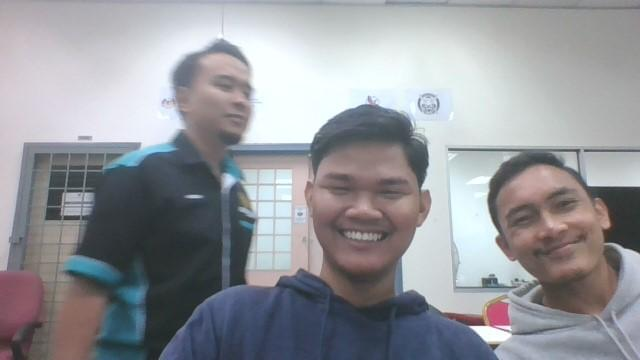senang: (308, 138, 423, 268), (489, 158, 593, 276)
